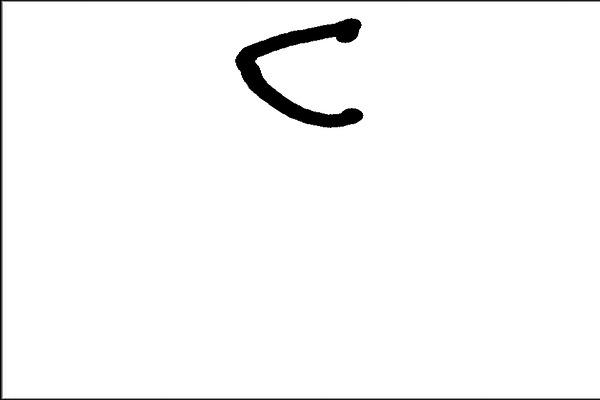C: (231, 13, 374, 131)
